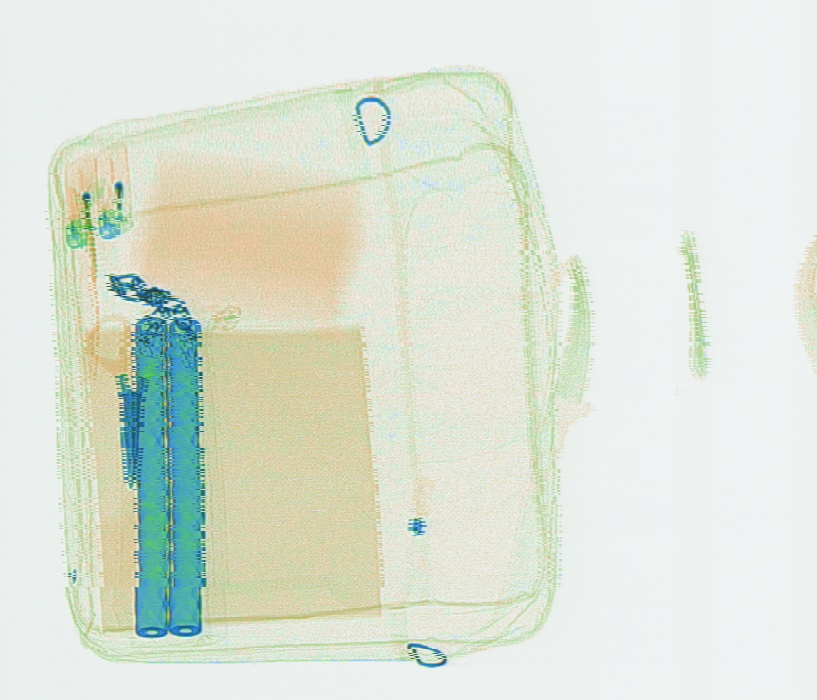lighter: (92, 139, 136, 241), (60, 150, 98, 250)
scissors: (81, 311, 165, 488)
